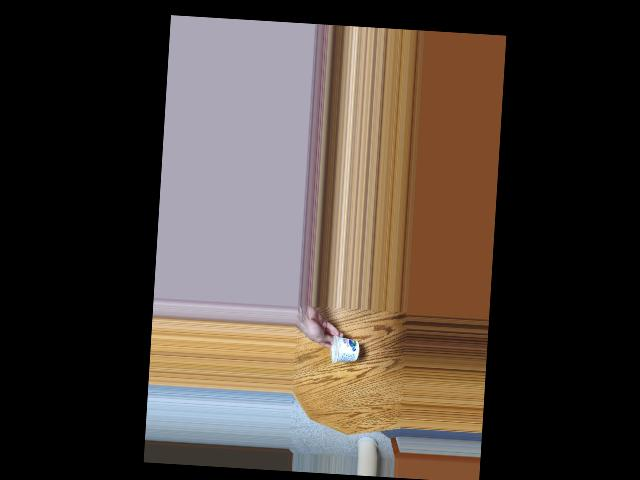cotage: (327, 337, 363, 371)
